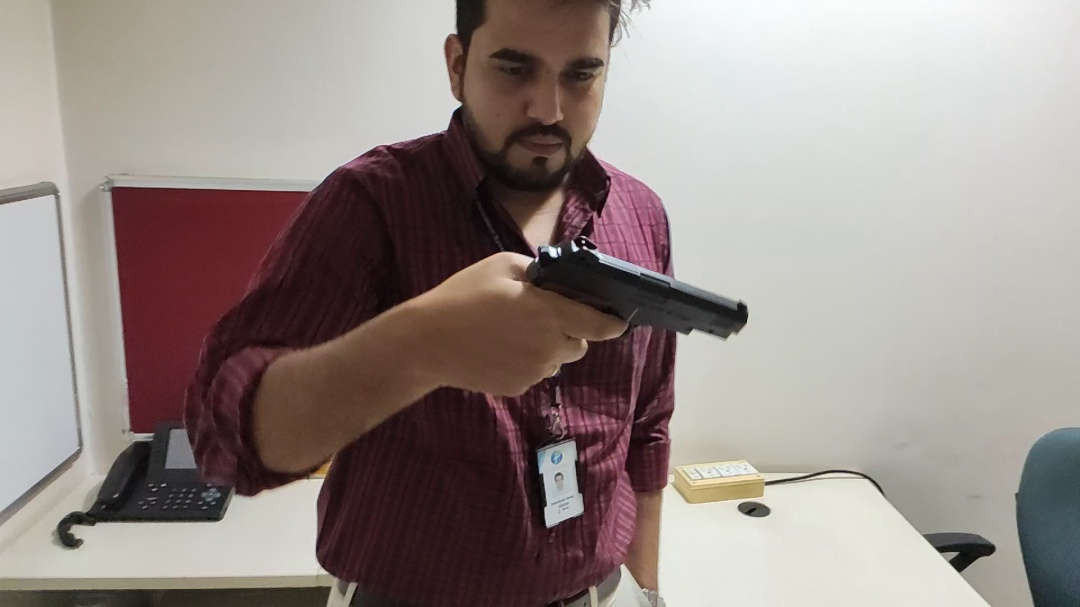gun: (501, 232, 759, 359)
